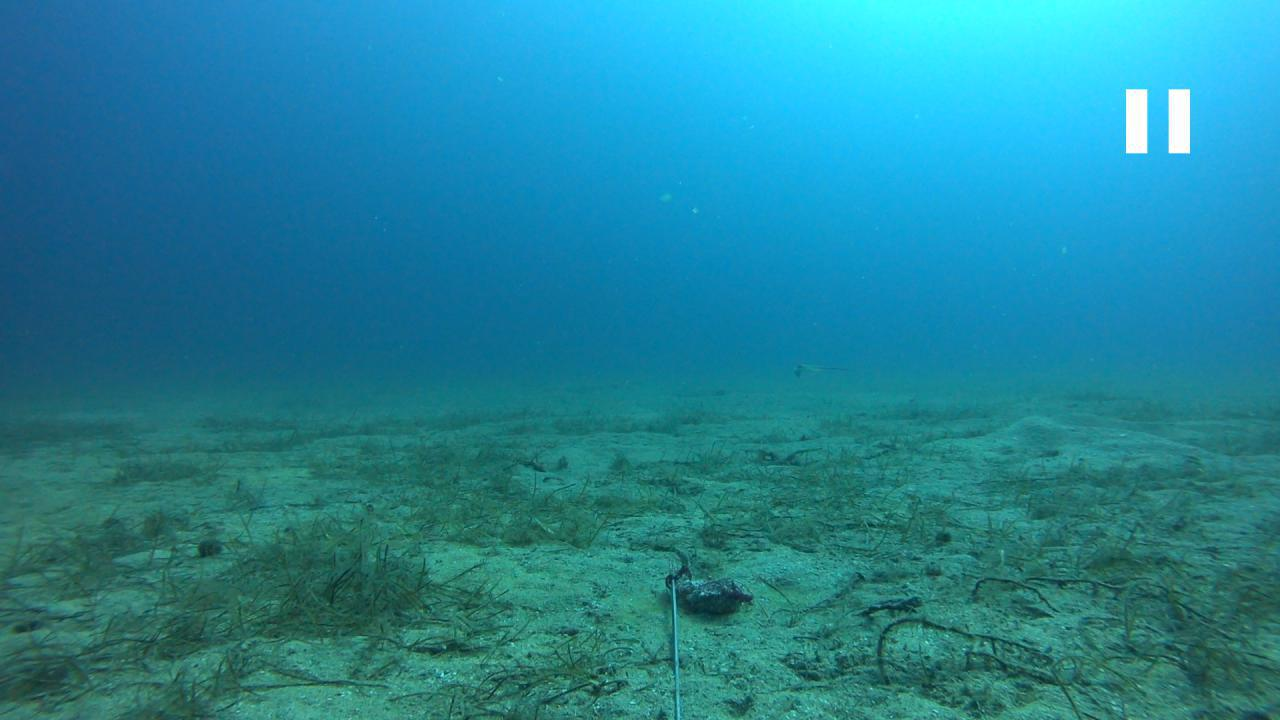dasyatis: (790, 361, 844, 376)
